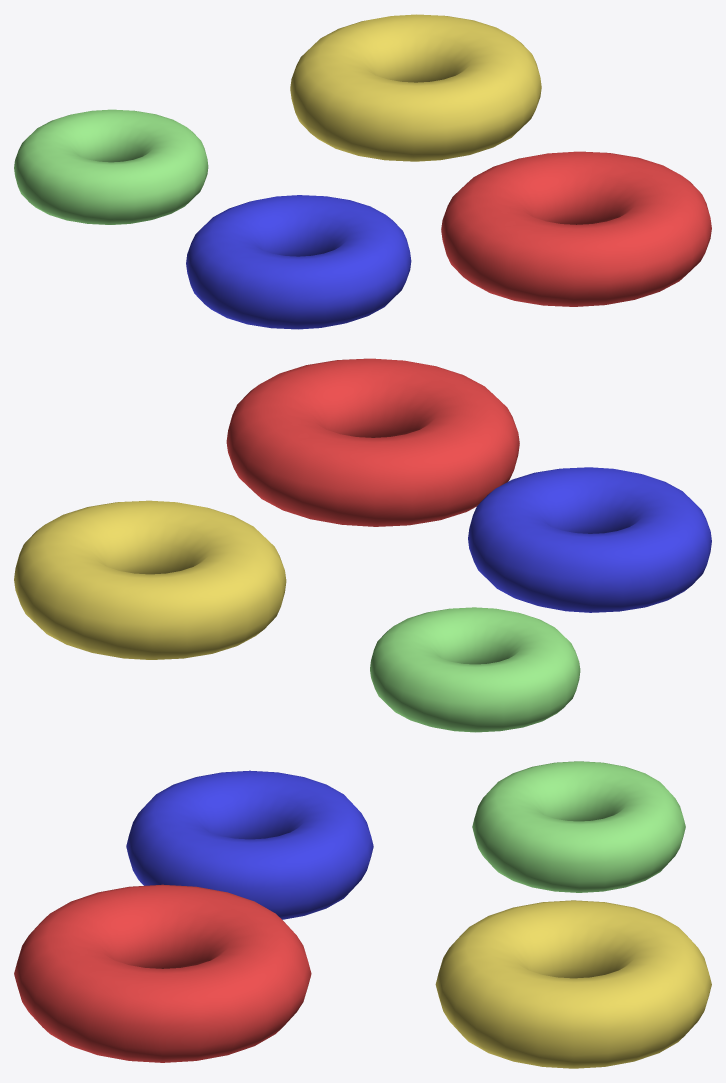
File: Donuts Sueltos.fbx
The picture shows the model from 3 angles, top to bottom: view 1: azimuth 30°, elevation 25°; view 2: azimuth 150°, elevation 25°; view 3: azimuth 270°, elevation 25°; orthographic projection. The views are drawn at different scales.
Visible parts, largest first — view 1: Torus.006; view 2: Torus.006; view 3: Torus.006.
Boxes of the visible parts, box(x1,y1,x2,y2) form: Torus.006: box(14, 14, 711, 329); Torus.006: box(14, 358, 711, 732); Torus.006: box(14, 761, 711, 1068).
Bounding box in the file's own units: 0.6588 × 0.7147 × 0.0901.
